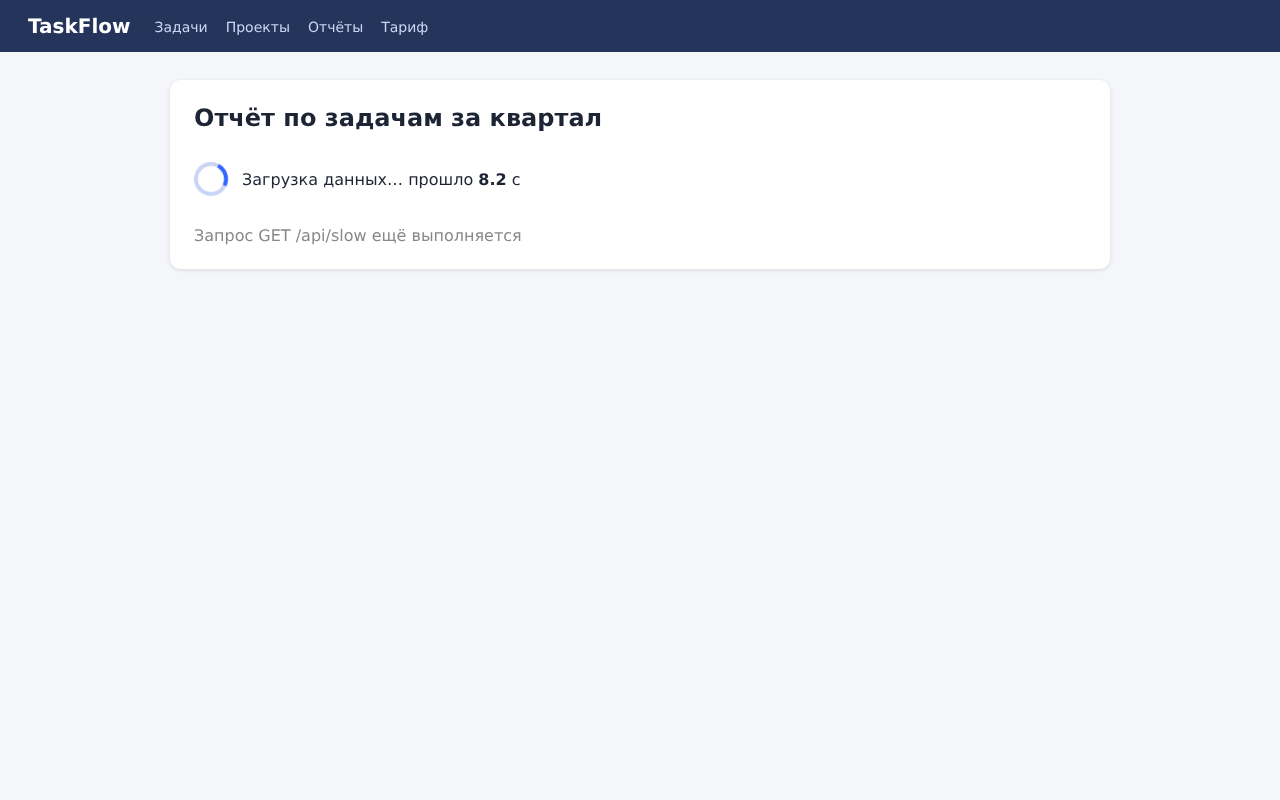DEFECT_AREA: (194, 162, 229, 196)
STATUS_INDICATOR: (194, 162, 520, 196), (195, 228, 521, 245)
